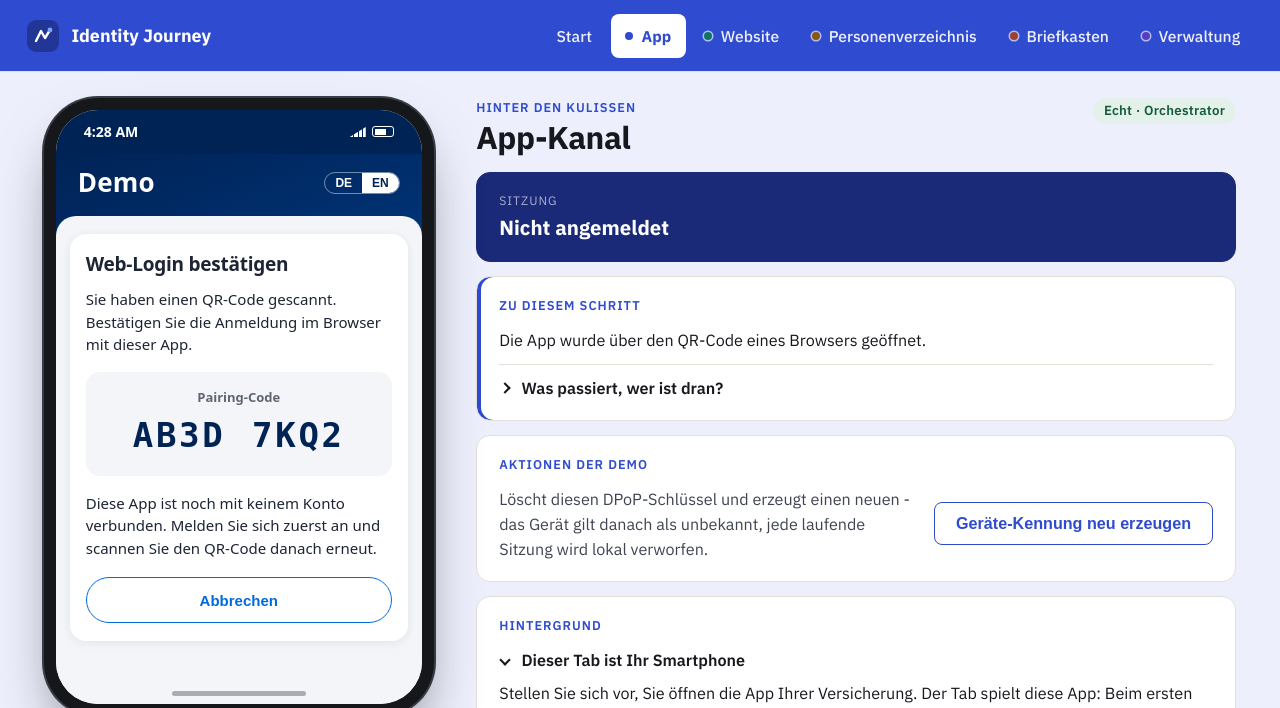
Test: a scanned pairing code on a device without an account › drops the code on cancel and shows the ordinary start screen
Expected: the text named "Pairing-Code: AB3D-7KQ2" is shown, 133,411 -> 345,460
Click the button "Abbrechen" at (239, 600), box 86,577 -> 392,623
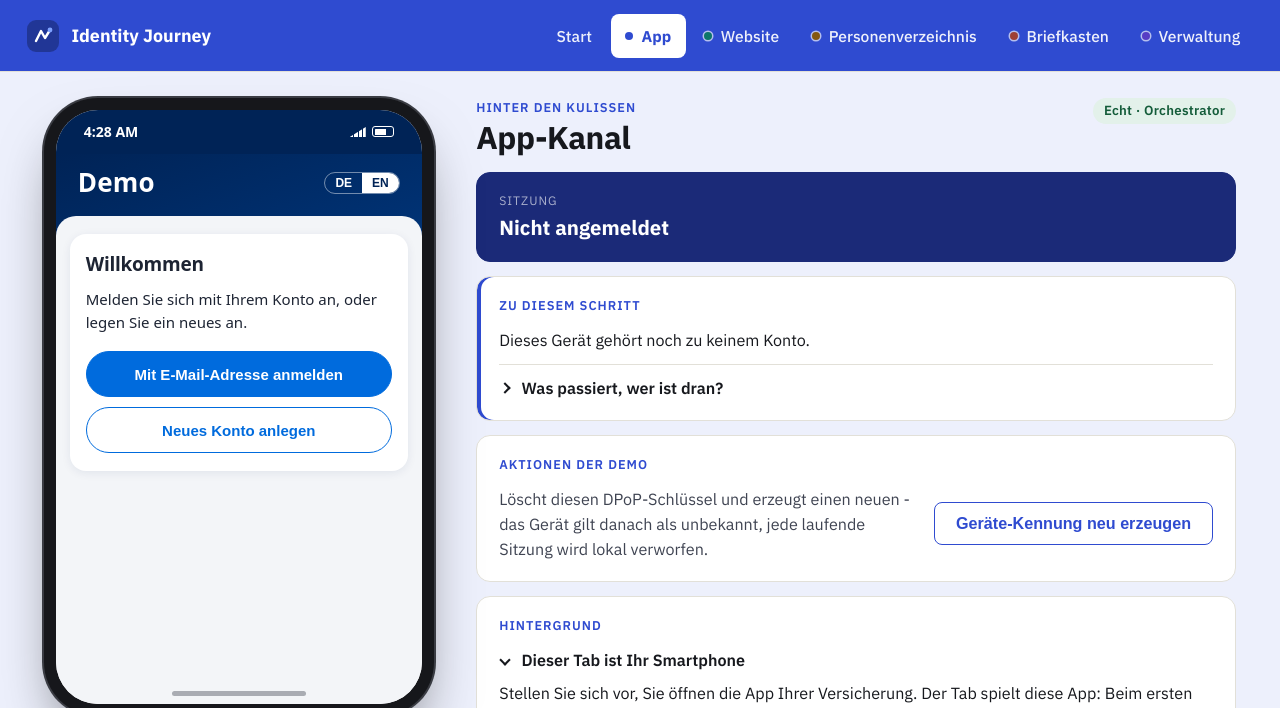
Expected: the button "Neues Konto anlegen" is shown, 86,407 -> 392,453
